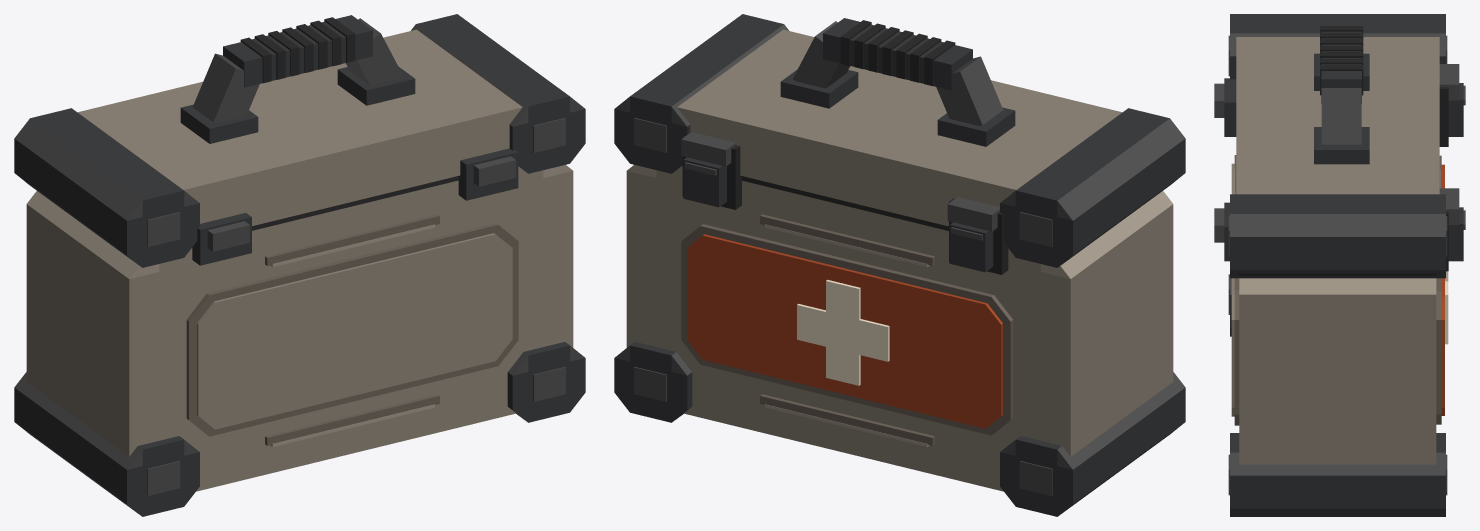
File: field-medkit.glb
3 renders of one model, left to right at view 1: azimuth 30°, elevation 25°; view 2: azimuth 150°, elevation 25°; view 3: azimuth 270°, elevation 25°, orthographic. The views are drawn at different scales.
Parts seen in each view (by area): view 1: Lid center, Case body center, Rear polymer inset center, Case body left, Upper left bumper center, Upper right bumper center, Case body right, Rear inset trim center, Lower left bumper left, Upper left bumper left, Upper left bumper left upper, Grip spine (+27 smaller); view 2: Lid center, Case body center, Orange enamel inset center, Case body left, Upper left bumper center, Upper right bumper center, Case body right, Front inset trim center, Lower left bumper left, Upper left bumper left, Upper left bumper left upper, Ivory cross upright (+31 smaller); view 3: Case body right, Lid center, Lower right bumper right, Upper right bumper right, Upper right bumper right upper, Upper right bumper center, Upper left bumper center, Case body right upper, Lower right bumper right upper, right sloped handle arm, Lower right bumper right lower, Upper right bumper right lower (+23 smaller).
Boxes of the visible parts, bbox=[...] form: Lid center: bbox=[78, 29, 522, 226]; Case body center: bbox=[159, 166, 543, 491]; Rear polymer inset center: bbox=[214, 233, 495, 429]; Case body left: bbox=[26, 204, 159, 456]; Upper left bumper center: bbox=[30, 108, 184, 267]; Upper right bumper center: bbox=[416, 14, 569, 173]; Case body right: bbox=[543, 171, 573, 347]; Rear inset trim center: bbox=[207, 223, 498, 436]; Lower left bumper left: bbox=[14, 387, 142, 504]; Upper left bumper left: bbox=[14, 139, 142, 255]; Upper left bumper left upper: bbox=[14, 118, 142, 220]; Grip spine: bbox=[223, 15, 372, 87]; Lid center: bbox=[677, 29, 1121, 226]; Case body center: bbox=[656, 166, 1040, 491]; Orange enamel inset center: bbox=[702, 234, 986, 428]; Case body left: bbox=[1040, 204, 1173, 456]; Upper left bumper center: bbox=[1015, 108, 1169, 267]; Upper right bumper center: bbox=[630, 14, 783, 173]; Case body right: bbox=[626, 171, 656, 347]; Front inset trim center: bbox=[700, 224, 993, 435]; Lower left bumper left: bbox=[1057, 387, 1185, 504]; Upper left bumper left: bbox=[1057, 139, 1185, 255]; Upper left bumper left upper: bbox=[1057, 118, 1185, 220]; Ivory cross upright: bbox=[826, 279, 860, 385]; Case body right: bbox=[1239, 294, 1436, 464]; Lid center: bbox=[1236, 37, 1439, 194]; Lower right bumper right: bbox=[1230, 475, 1445, 508]; Upper right bumper right: bbox=[1230, 237, 1445, 269]; Upper right bumper right upper: bbox=[1230, 214, 1445, 236]; Upper right bumper center: bbox=[1230, 194, 1445, 213]; Upper left bumper center: bbox=[1230, 14, 1445, 33]; Case body right upper: bbox=[1239, 278, 1436, 294]; Lower right bumper right upper: bbox=[1230, 452, 1445, 475]; right sloped handle arm: bbox=[1321, 88, 1361, 144]; Lower right bumper right lower: bbox=[1230, 508, 1445, 516]; Upper right bumper right lower: bbox=[1230, 270, 1445, 278].
Bounding box in the file's own units: 2.14 × 1.72 × 1.06.
